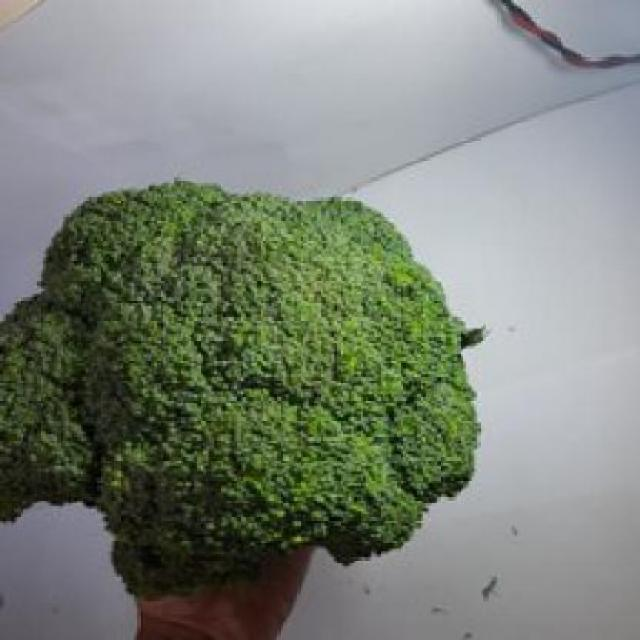broccoli: (11, 182, 492, 588)
